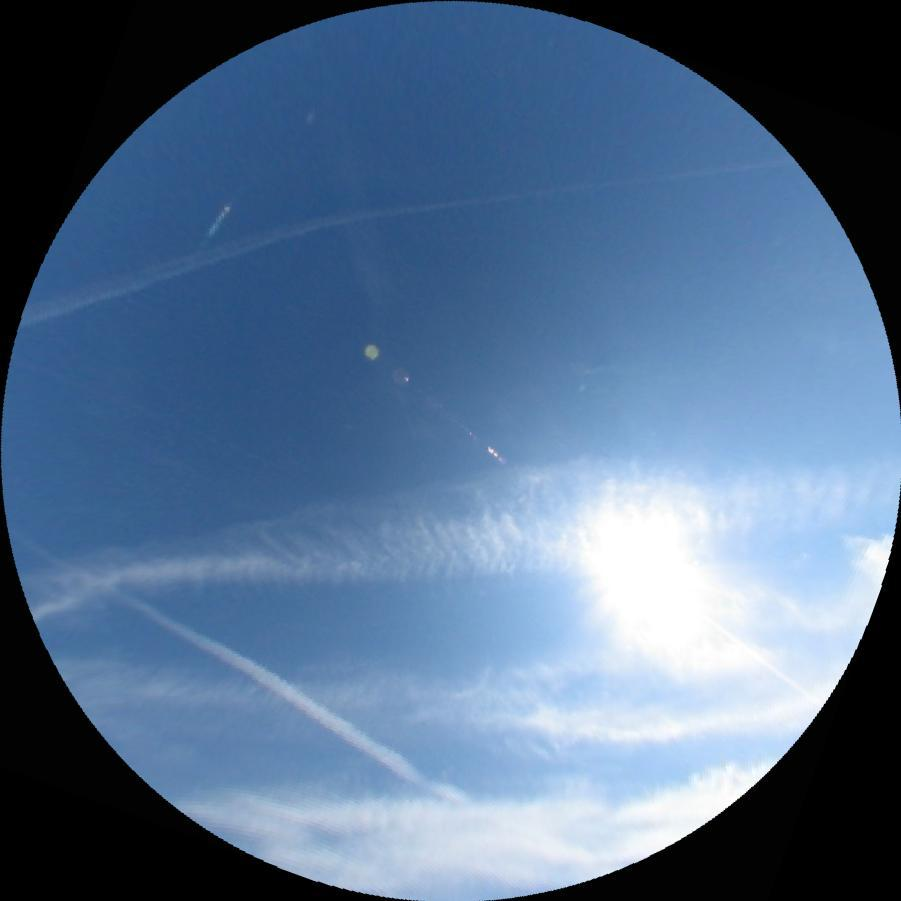contrail old: (11, 120, 797, 326), (9, 520, 479, 816)
contrail veryold: (13, 399, 901, 662)
parasite: (684, 602, 825, 707), (194, 181, 245, 253)
sun: (594, 517, 712, 634)
